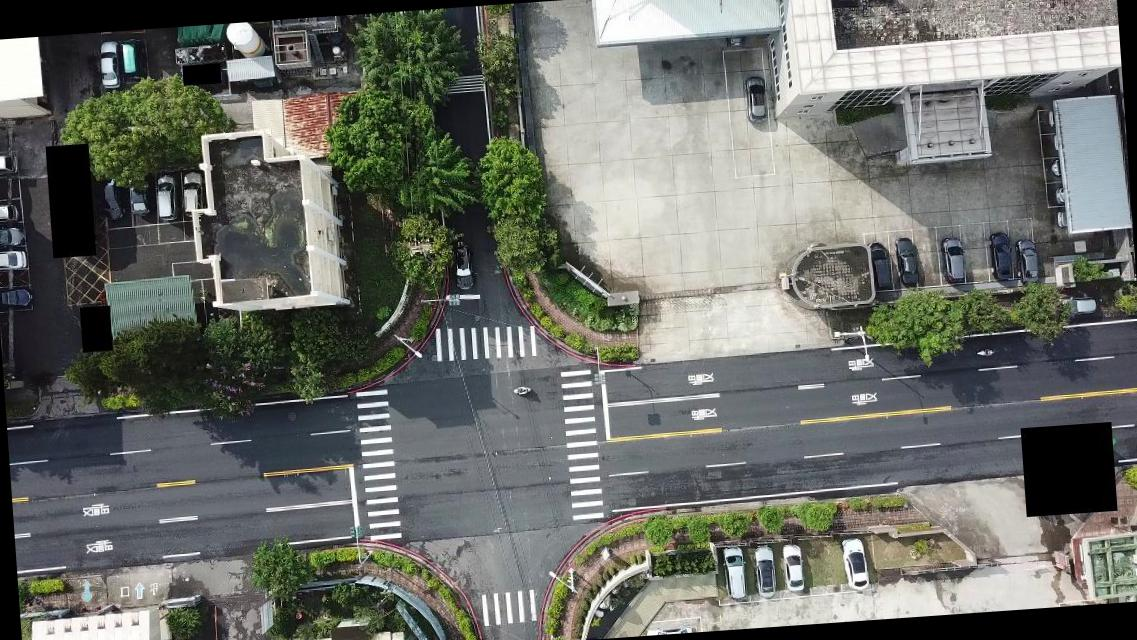vehicle: (841, 534, 872, 594), (722, 544, 749, 600), (753, 542, 779, 600), (866, 237, 892, 290), (941, 235, 968, 284), (740, 74, 766, 122), (780, 542, 805, 590), (450, 242, 474, 291), (153, 174, 177, 222), (98, 175, 123, 221), (990, 231, 1013, 280), (98, 38, 121, 87), (126, 170, 150, 216), (897, 236, 919, 284), (181, 168, 202, 218), (118, 37, 144, 77), (1055, 297, 1100, 320), (1018, 238, 1040, 284), (0, 287, 30, 310), (0, 226, 25, 251), (0, 248, 28, 270), (0, 202, 21, 227), (0, 153, 18, 176)
